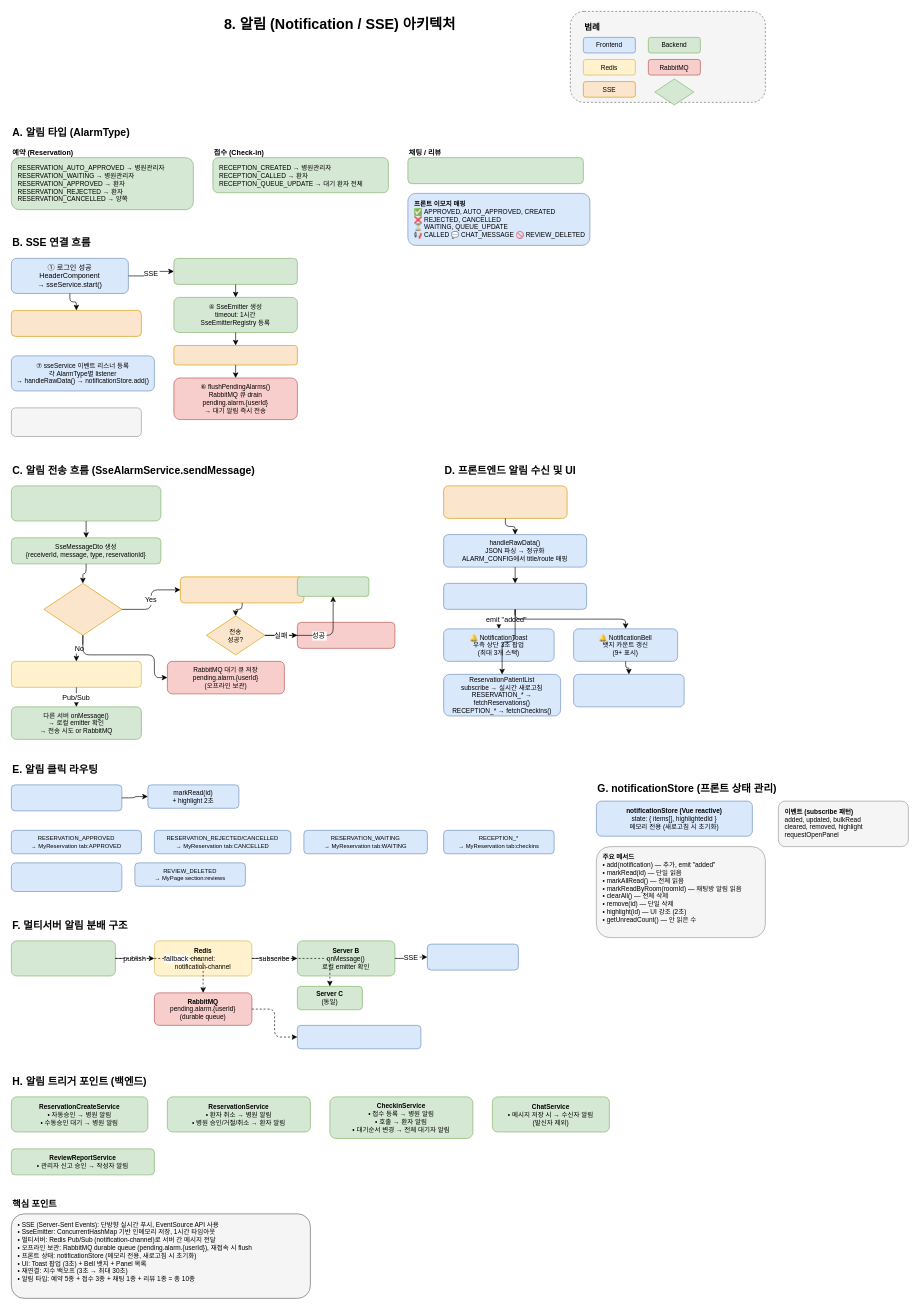
The diagram is 920 pixels wide and 1310 high, and some of its shapes have lost their labels. Each missing label, with the box of its shape:
CHAT_MESSAGE → MyPage section:chat roomId={roomId}: (11, 862, 122, 891)
CHAT_MESSAGE → 수신자 (발신자 제외) REVIEW_DELETED → 리뷰 작성자 (환자): (407, 157, 583, 184)
dead emitter 제거 + RabbitMQ 저장: (297, 622, 395, 648)
emitter.send() event.name(type).data(json): (180, 576, 304, 603)
NotificationPanel 목록에 추가 (최신순) 클릭 → 페이지 라우팅: (573, 674, 684, 707)
notificationStore.add() {type, title, body, meta, read:false}: (443, 583, 587, 609)
Redis Pub/Sub 발행 channel: notification-channel: (11, 661, 141, 687)
Server A 비즈니스 로직 실행 sendMessage() 호출: (11, 940, 115, 976)
sseService.js EventSource 이벤트 수신 event.name = AlarmType: (443, 485, 567, 518)
② EventSource 생성 GET /sse/connect?token={JWT}: (11, 310, 141, 336)
③ SseController.connect() JWT에서 accountId 추출: (173, 258, 297, 284)
⑤ "connect" 초기 이벤트 전송: (173, 345, 297, 365)
✅ 전송 완료: (297, 576, 369, 596)
분기: (654, 78, 694, 105)
비즈니스 로직에서 호출 sseAlarmService.sendMessage( receiverId, message, type, refId): (11, 485, 161, 521)
사용자가 알림 클릭 (NotificationPanel): (11, 784, 122, 811)
재연결 전략 초기 3초 → ×1.5 지수 백오프 최대 30초: (11, 407, 141, 436)
현재 서버에 SseEmitter 존재?: (43, 583, 122, 635)
👤 사용자 (Server B에 연결됨): (427, 943, 518, 970)
👤 오프라인 사용자 → 재접속 시 RabbitMQ flush: (297, 1025, 421, 1049)
